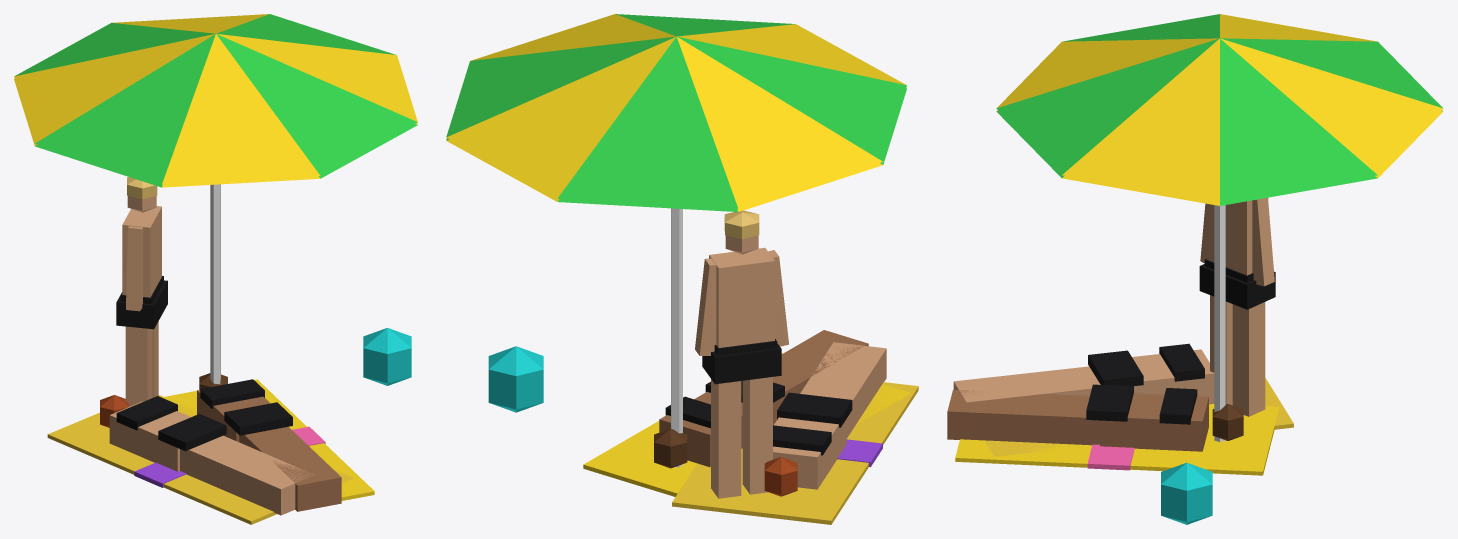
File: nudista_grupo_0.obj
3 views of the same model, side by side, from view 1: azimuth 30°, elevation 25°; view 2: azimuth 150°, elevation 25°; view 3: azimuth 270°, elevation 25° (orthographic). The views are drawn at different scales.
Visible parts, largest first — view 1: nudista_grupo_0; view 2: nudista_grupo_0; view 3: nudista_grupo_0.
Boxes of the visible parts, <box> form: nudista_grupo_0: <box>14,14,417,524</box>; nudista_grupo_0: <box>446,14,918,524</box>; nudista_grupo_0: <box>947,14,1443,524</box>.
Bounding box in the file's own units: 2.6 × 2.6 × 2.88.
